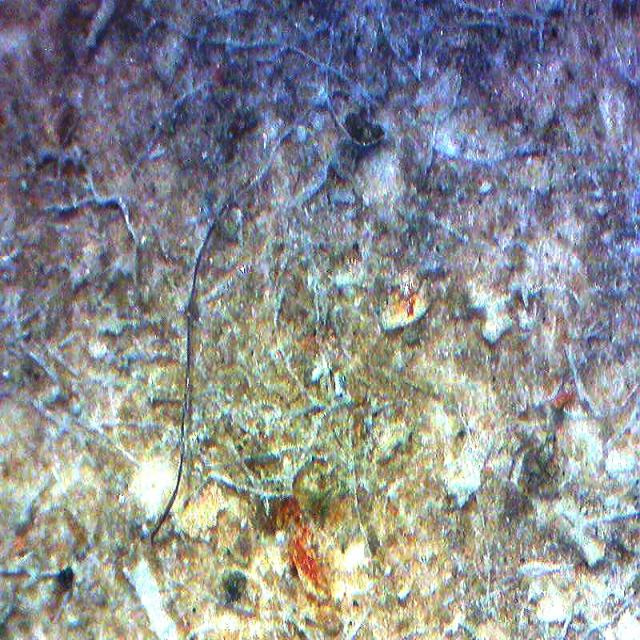microplastic: (152, 193, 238, 541)
